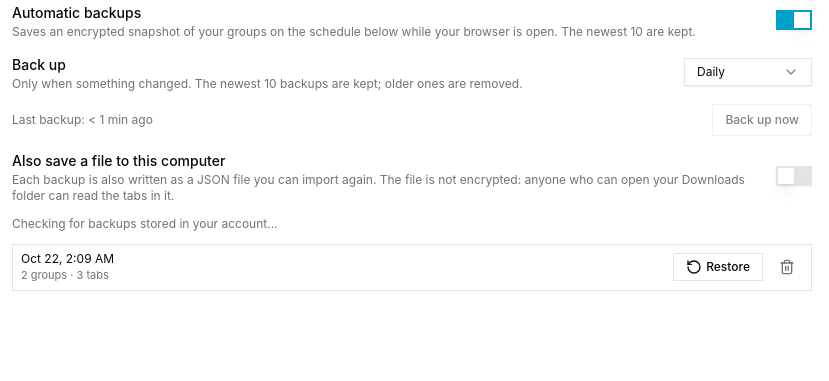
Test: AutoBackups — restore and delete › Cancel closes the choice
The image size is (829, 381).
Click the button with aria-label "Restore backup from": click(718, 267) [673,253,763,281]
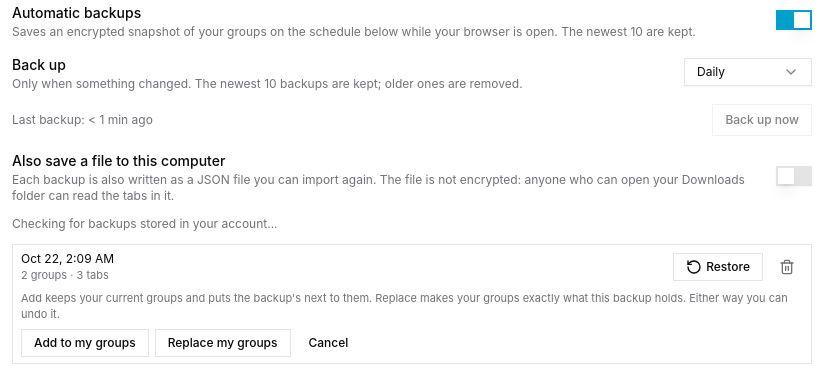
Click the button "Cancel": click(328, 342) [296,328,360,356]
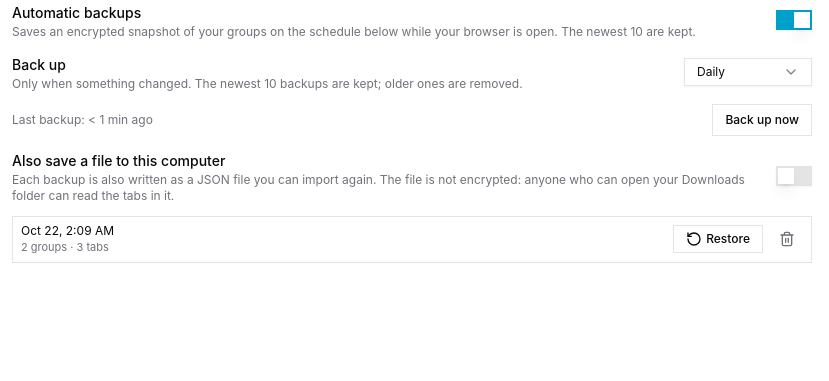
Check: the button "Add to my groups" is gone
